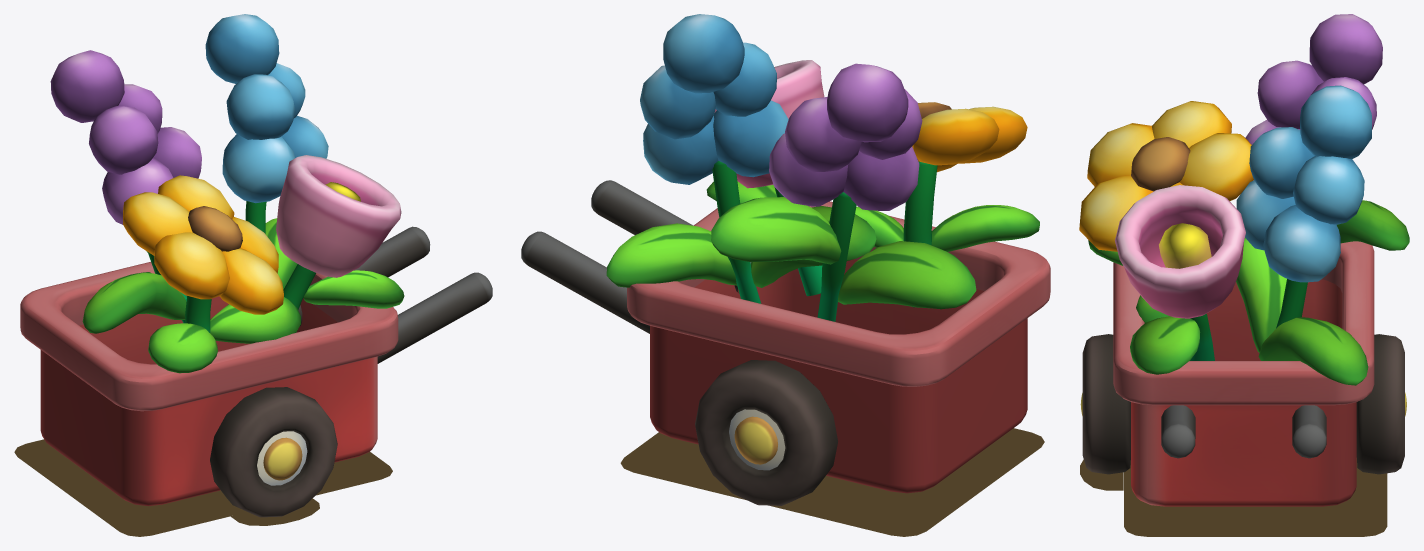
The model's file is Veg_TrolleyFlower.fbx.
3 views of the same model, side by side, from view 1: azimuth 30°, elevation 25°; view 2: azimuth 150°, elevation 25°; view 3: azimuth 270°, elevation 25° (orthographic). The views are drawn at different scales.
Visible parts, largest first — view 1: Flowers, trolley_body, Trolley_SDW; view 2: trolley_body, Flowers, Trolley_SDW; view 3: Flowers, trolley_body, Trolley_SDW.
Boxes of the visible parts, box(x1,y1,x2,y2) form: Flowers: box(50, 14, 404, 373); trolley_body: box(20, 226, 492, 517); Trolley_SDW: box(14, 439, 392, 536); trolley_body: box(521, 180, 1050, 505); Flowers: box(606, 14, 1039, 321); Trolley_SDW: box(620, 428, 1044, 536); Flowers: box(1079, 14, 1409, 385); trolley_body: box(1080, 241, 1406, 506); Trolley_SDW: box(1080, 458, 1387, 536).
Bounding box in the file's own units: 148 × 144 × 104.
